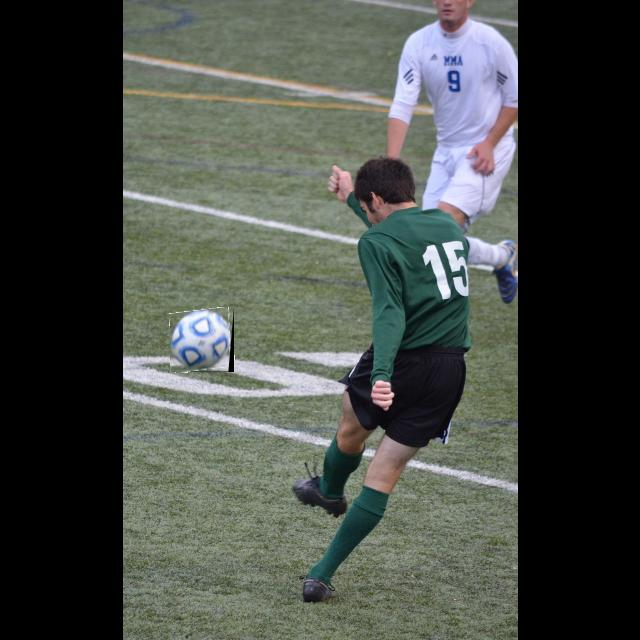Football: (170, 308, 234, 372)
